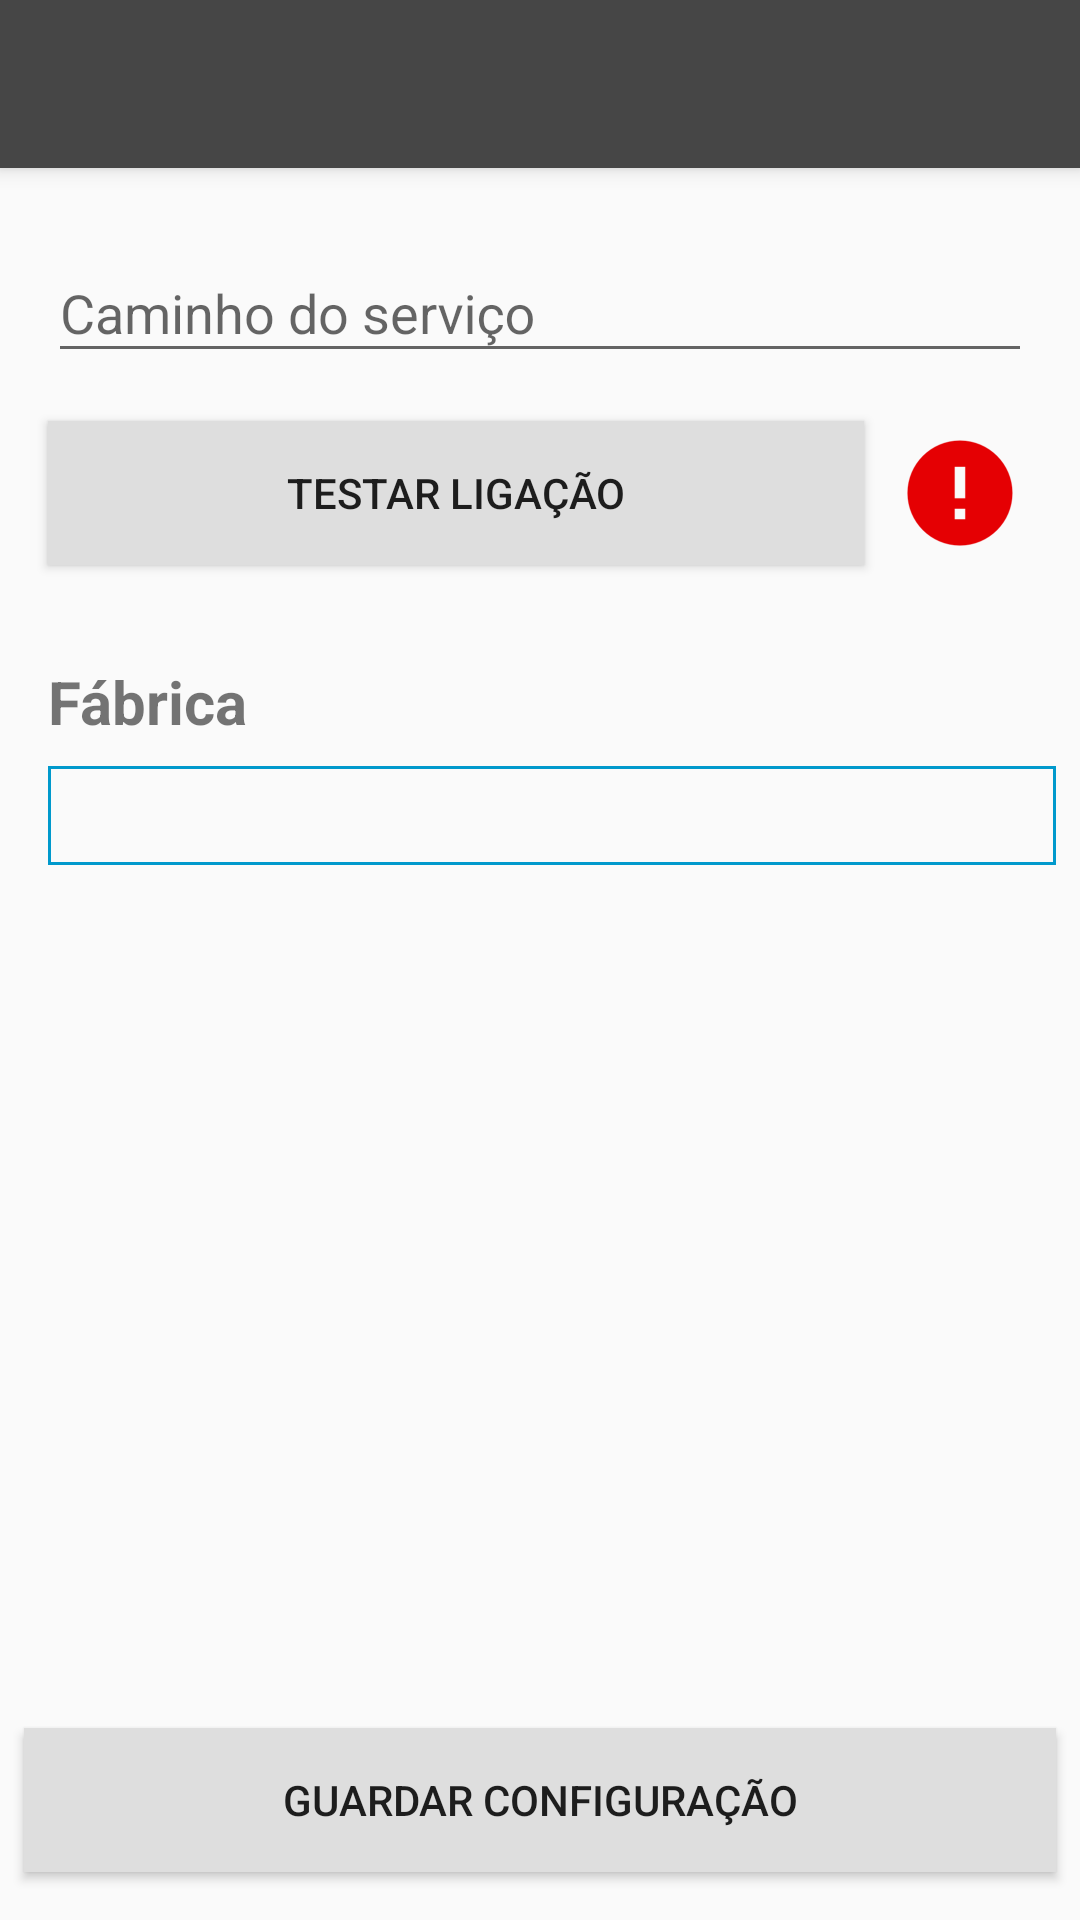

Icon click points for this 1080 × 1920 phone screenshot, format (x,y):
notok: (960,493)
